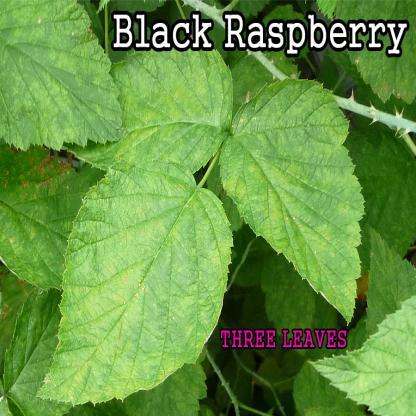Raspberry leaf: (36, 158, 231, 402), (215, 70, 360, 326), (0, 3, 128, 146), (72, 54, 230, 158)
